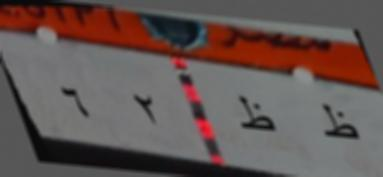2: (124, 84, 164, 138)
6: (55, 78, 102, 126)
Thaa: (314, 97, 366, 150), (234, 87, 276, 141)
